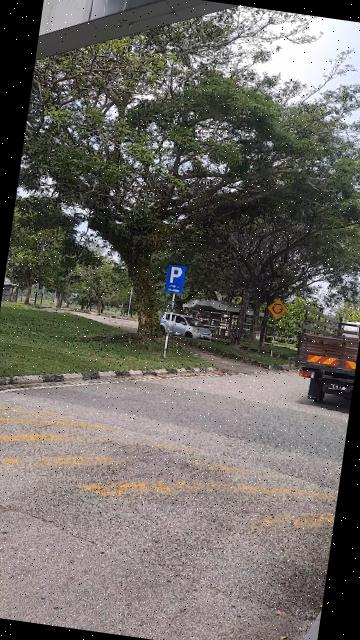License_Plate: (330, 382, 351, 392)
lorry: (292, 310, 360, 412)
